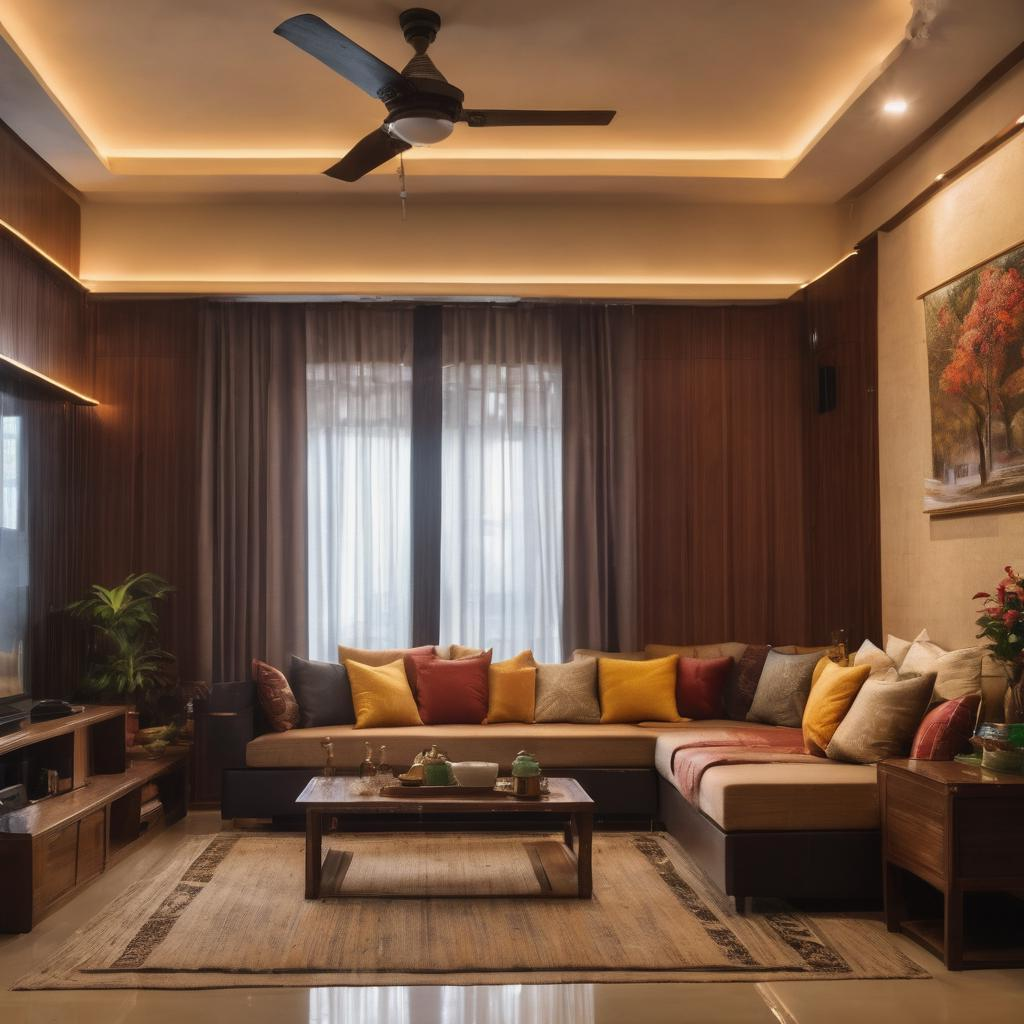fan: (268, 6, 620, 192)
light: (868, 86, 918, 133)
sofa: (213, 623, 1017, 918)
table: (290, 758, 590, 906), (0, 712, 172, 934), (879, 746, 1024, 966)
